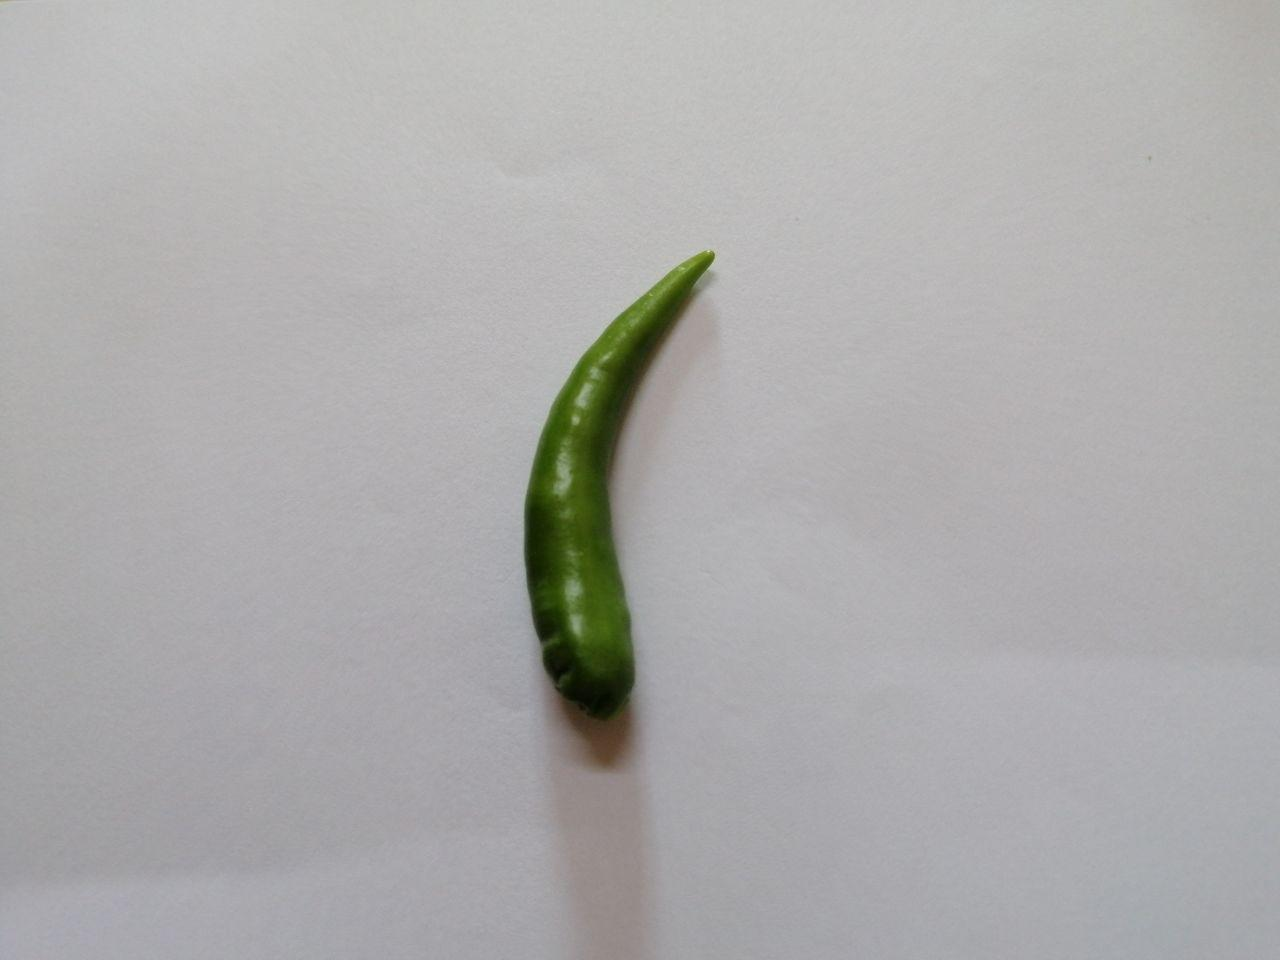lada hijau: (510, 236, 741, 742)
